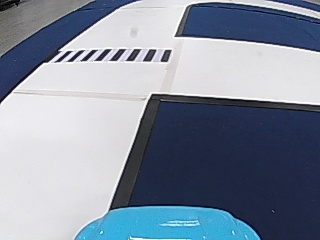CrossWalk: (57, 46, 174, 63)
